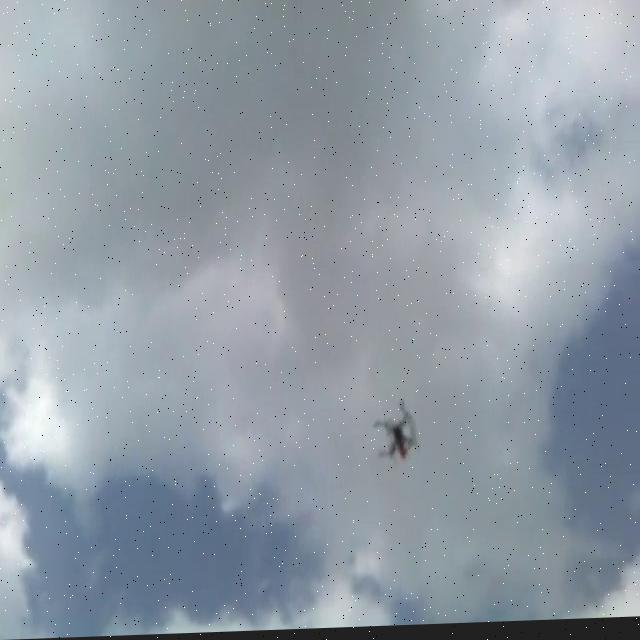drone: (372, 396, 421, 468)
